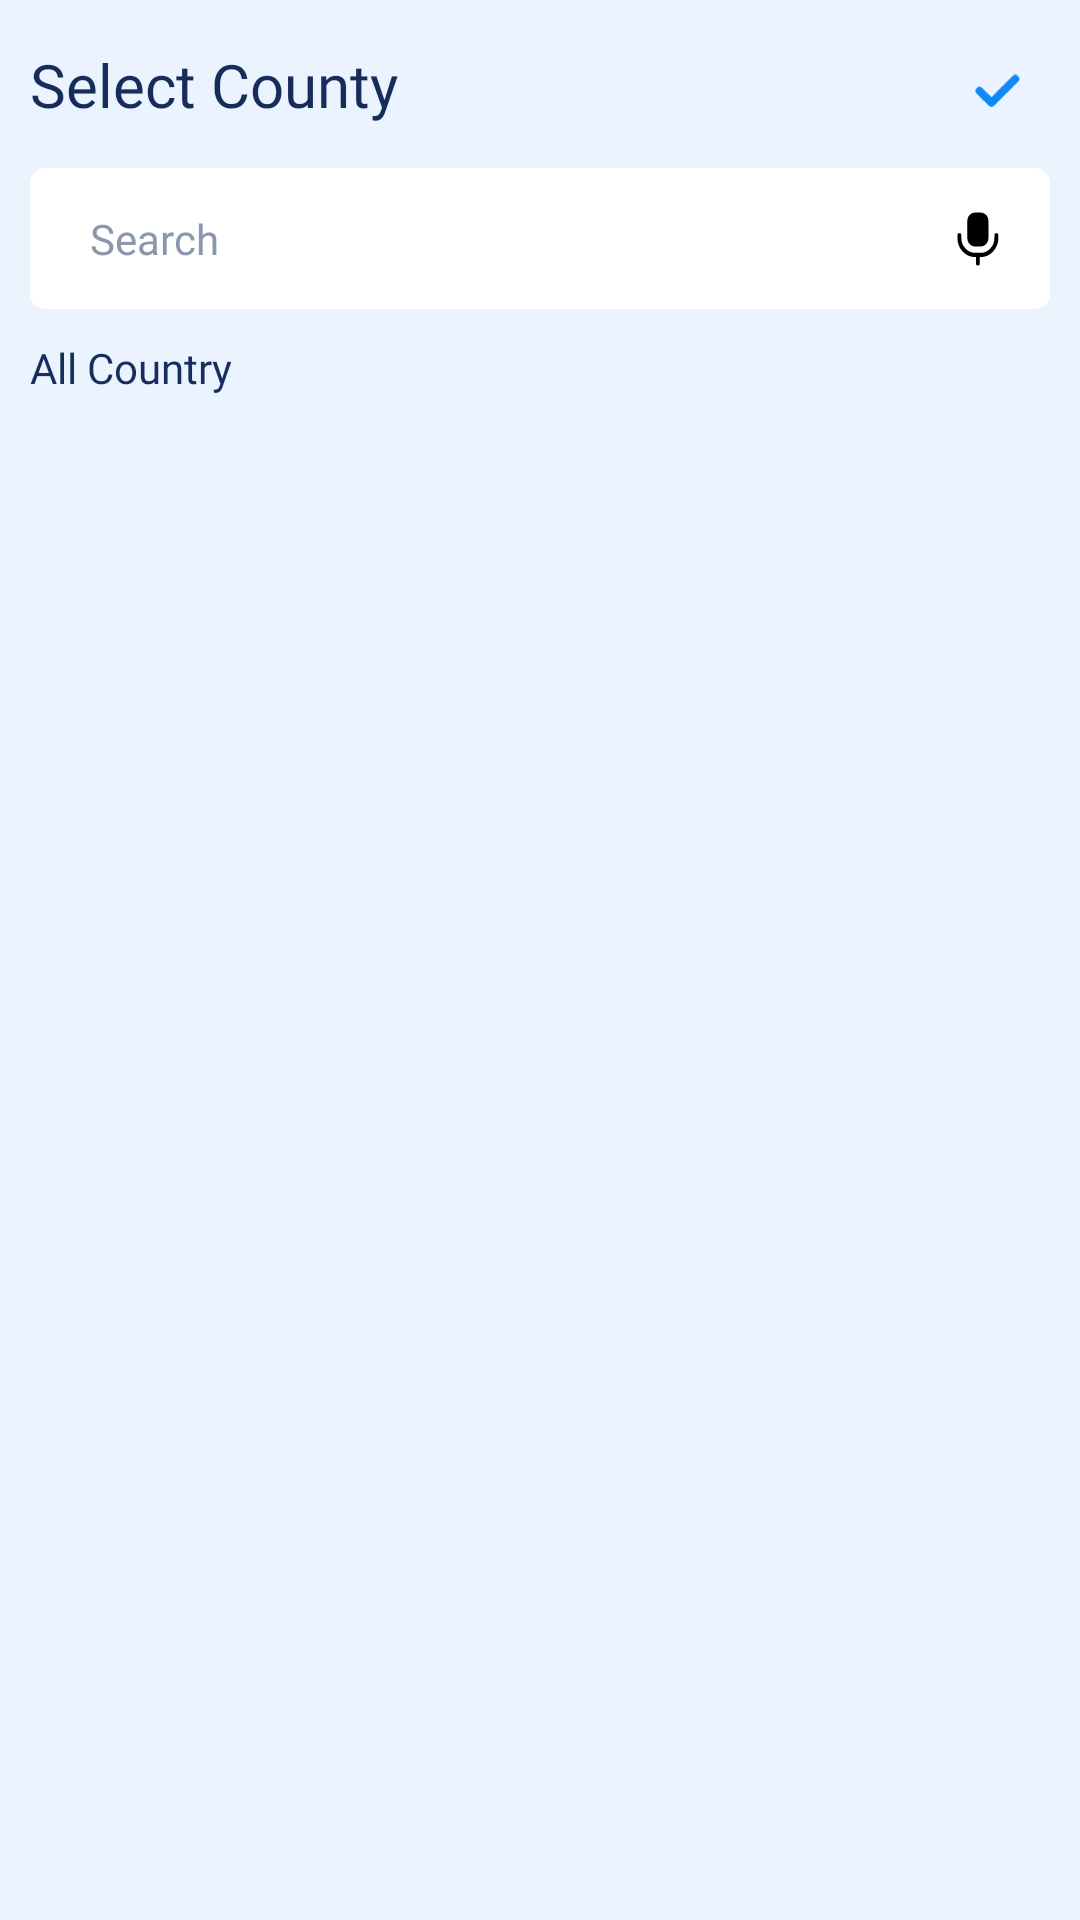

Where to tap for icons on this 1080 × 1920 app screen, as (x,y):
checked: (997,90)
mic: (978,239)
